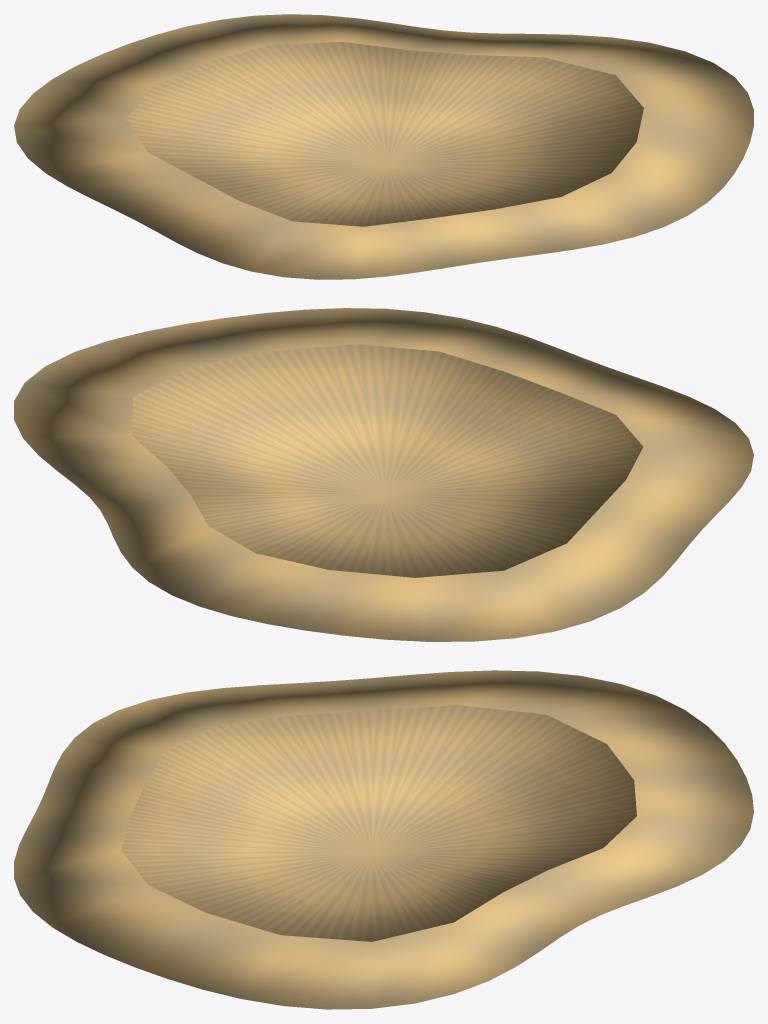
File: ISL-S_LOD2_Beach.fbx
The picture shows the model from 3 angles, top to bottom: view 1: azimuth 30°, elevation 25°; view 2: azimuth 150°, elevation 25°; view 3: azimuth 270°, elevation 25°; orthographic projection. The views are drawn at different scales.
Parts seen in each view (by area): view 1: ISL-S_LOD2_Beach; view 2: ISL-S_LOD2_Beach; view 3: ISL-S_LOD2_Beach.
Boxes of the visible parts, box(x1,y1,x2,y2) form: ISL-S_LOD2_Beach: box(14, 14, 753, 279); ISL-S_LOD2_Beach: box(14, 308, 753, 641); ISL-S_LOD2_Beach: box(14, 670, 753, 1009).
Bounding box in the file's own units: 44.87 × 41.38 × 2.3.
